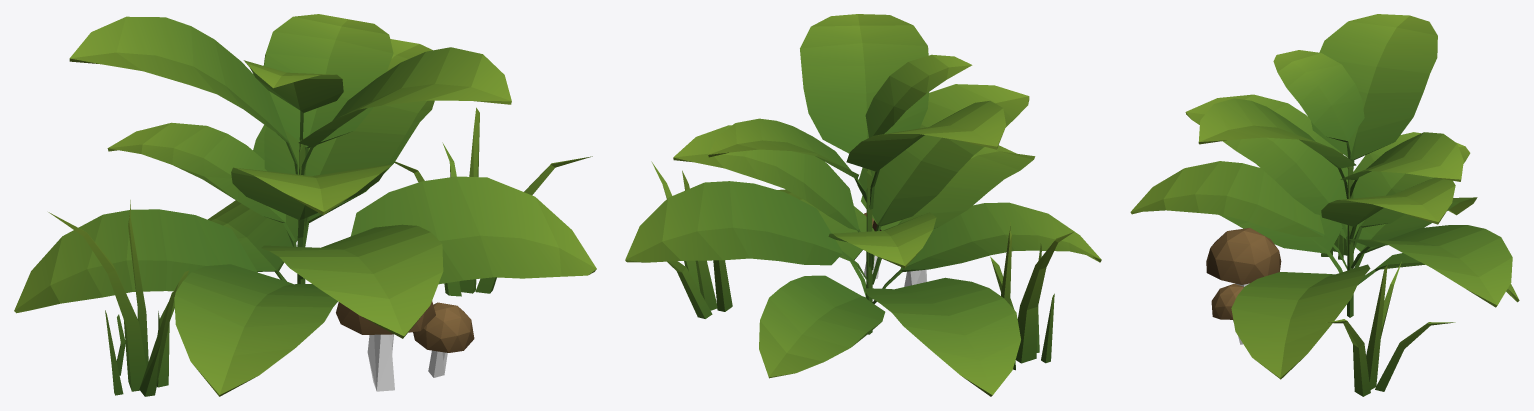
Rendered from Plant_04.fbx.
3 views of the same model, side by side, from view 1: azimuth 30°, elevation 25°; view 2: azimuth 150°, elevation 25°; view 3: azimuth 270°, elevation 25° (orthographic). The views are drawn at different scales.
Parts seen in each view (by area): view 1: Plant_04; view 2: Plant_04; view 3: Plant_04.
Boxes of the visible parts, x1,y1,x2,y2 form: Plant_04: (14, 14, 596, 396); Plant_04: (625, 14, 1101, 396); Plant_04: (1130, 14, 1519, 396).
Bounding box in the file's own units: 0.9708 × 0.5601 × 0.8091.
